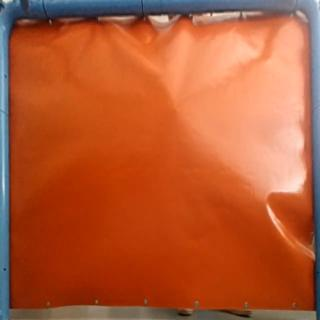Hit-hRxx: (170, 104, 182, 117)
